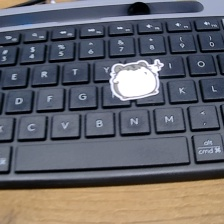mouse: (107, 56, 164, 104)
